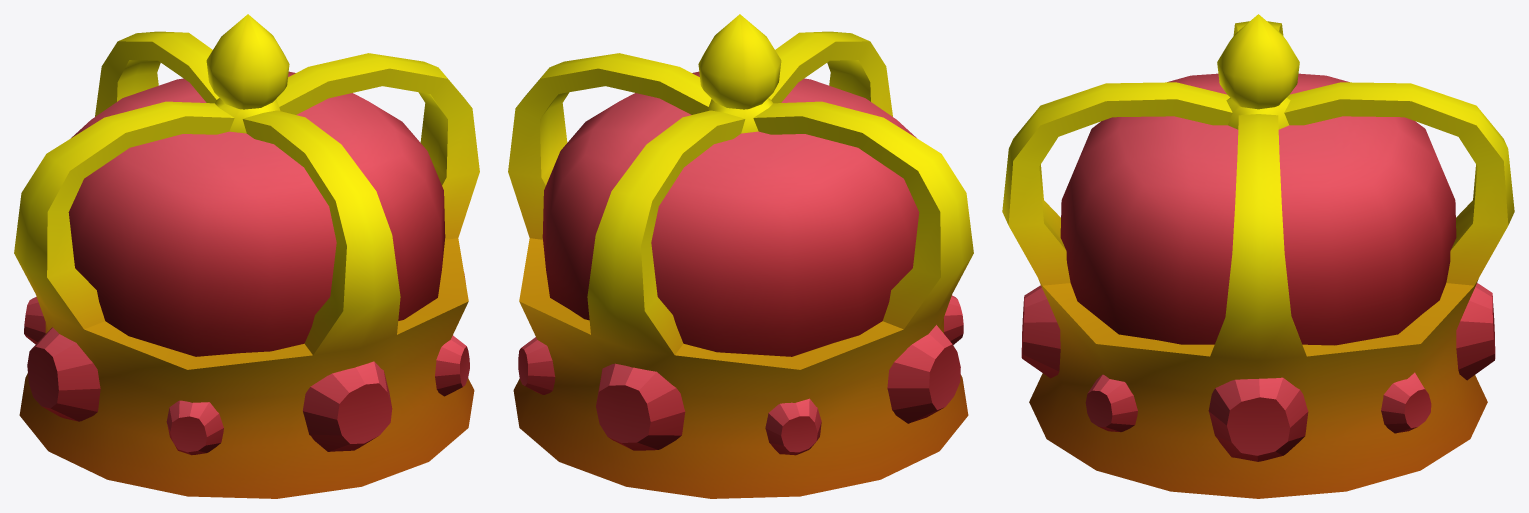
Rendered from Crown_03.glb.
3 renders of one model, left to right at view 1: azimuth 30°, elevation 25°; view 2: azimuth 150°, elevation 25°; view 3: azimuth 270°, elevation 25°, orthographic.
Visible parts, largest first — view 1: Crown_03; view 2: Crown_03; view 3: Crown_03.
Boxes of the visible parts, left/top/right/bottom form: Crown_03: left=14, top=14, right=479, bottom=498; Crown_03: left=508, top=14, right=973, bottom=498; Crown_03: left=1002, top=14, right=1514, bottom=498.
Bounding box in the file's own units: 0.6102 × 0.5227 × 0.6102.
Materials: 1 (1 with a texture image).
